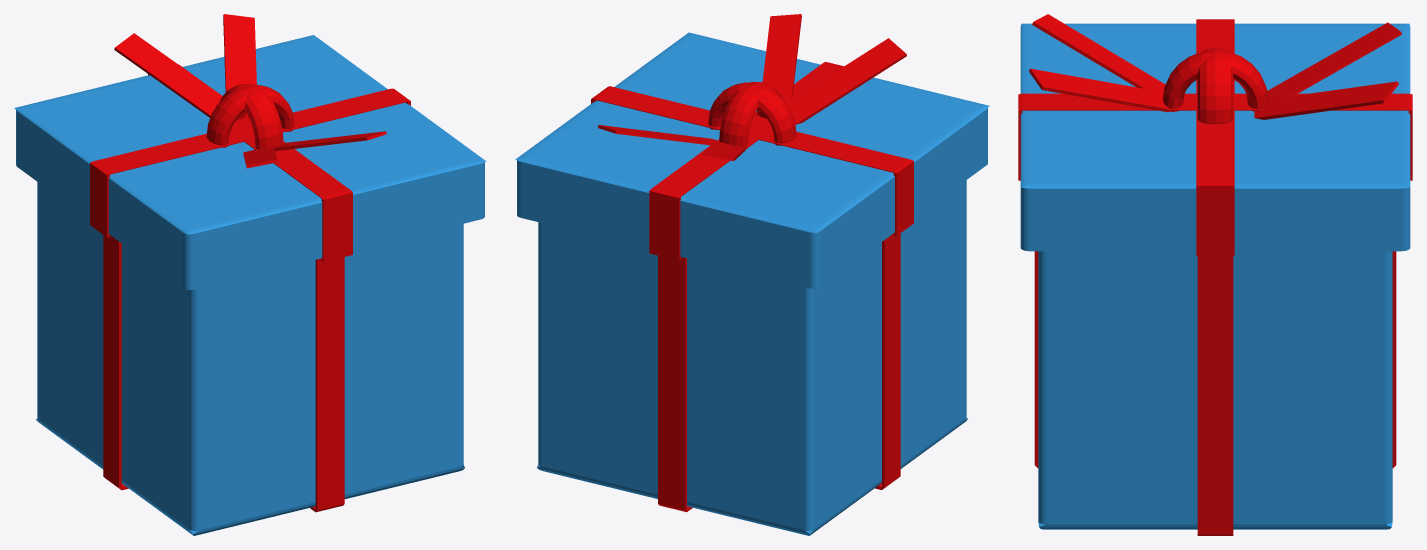
File: Gift Box.glb
The picture shows the model from 3 angles, left to right: view 1: azimuth 30°, elevation 25°; view 2: azimuth 150°, elevation 25°; view 3: azimuth 270°, elevation 25°; orthographic projection. The views are drawn at different scales.
Parts seen in each view (by area): view 1: GiftBottom, GiftLid; view 2: GiftBottom, GiftLid; view 3: GiftBottom, GiftLid.
Boxes of the visible parts, bbox=[...] form: GiftBottom: bbox=[36, 182, 464, 535]; GiftLid: bbox=[14, 14, 486, 289]; GiftBottom: bbox=[537, 180, 967, 535]; GiftLid: bbox=[515, 14, 989, 288]; GiftBottom: bbox=[1034, 251, 1396, 535]; GiftLid: bbox=[1018, 14, 1412, 255].
Size of the model in its own units: 0.556 by 0.64 by 0.556.
